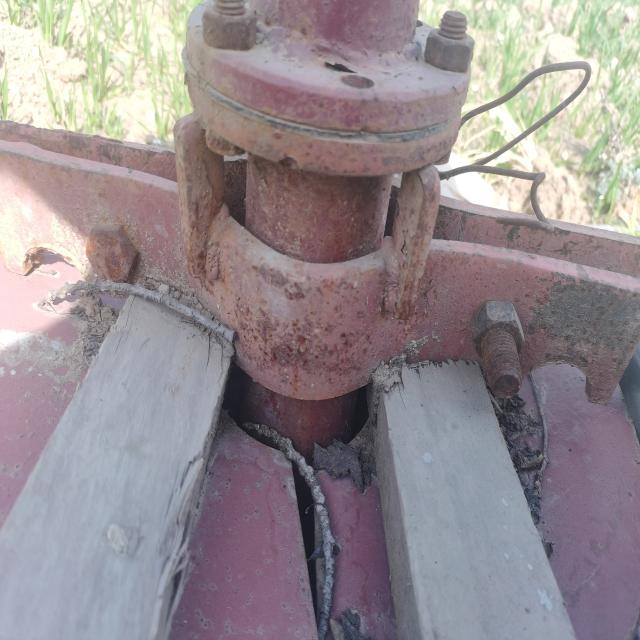bolt head: (84, 219, 140, 285)
bolt nut: (468, 298, 526, 376)
bolt side: (201, 5, 258, 52), (423, 24, 475, 75)
